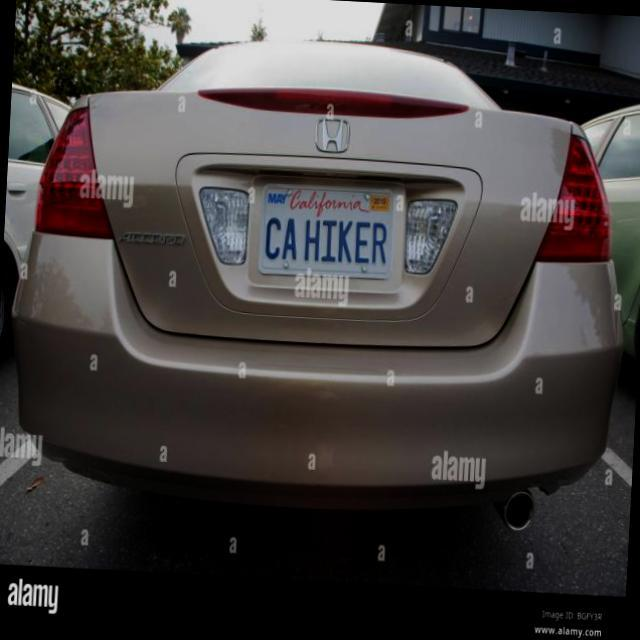Plat: (257, 182, 398, 280)
